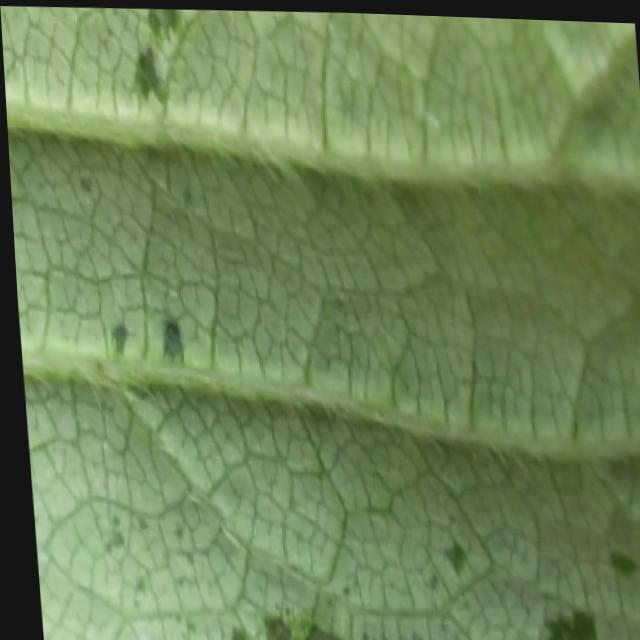Angular Leafspot: (8, 7, 640, 640)
